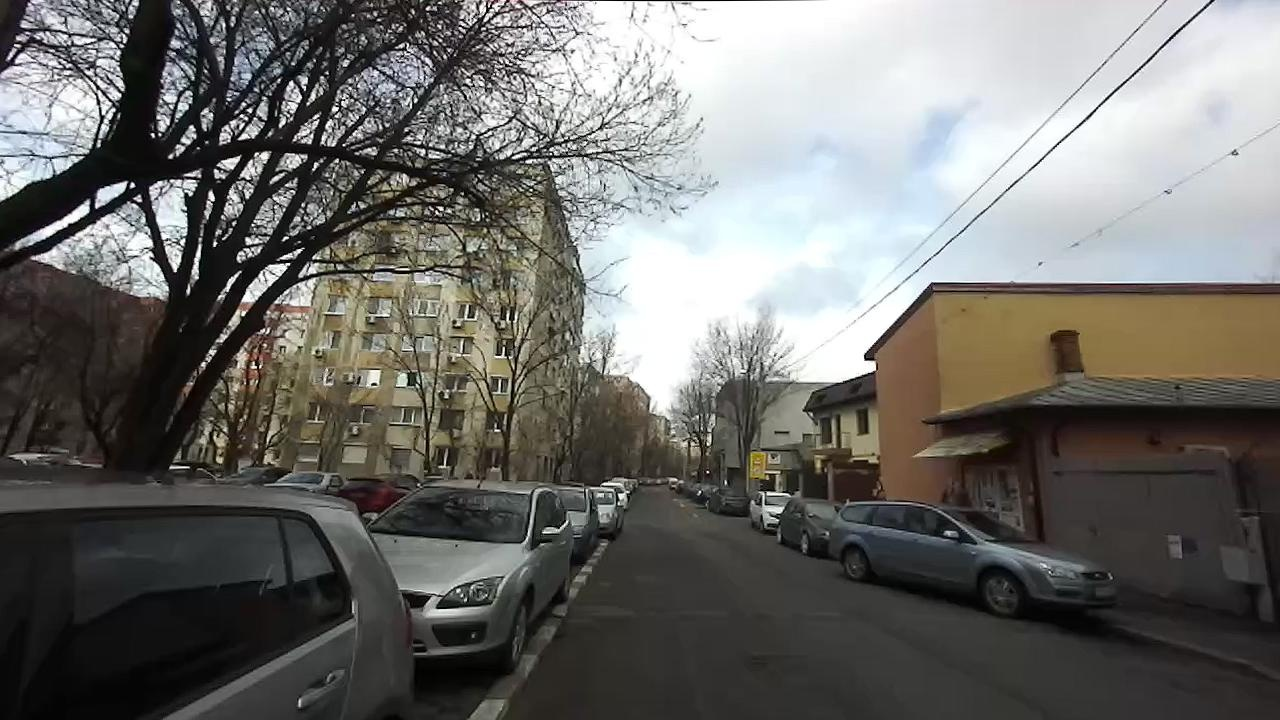pothole: (744, 647, 801, 679)
